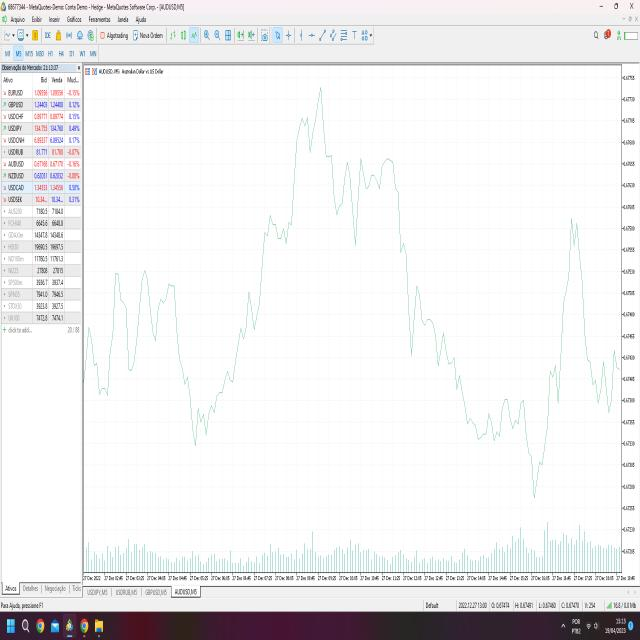oco: (542, 174, 612, 472)
